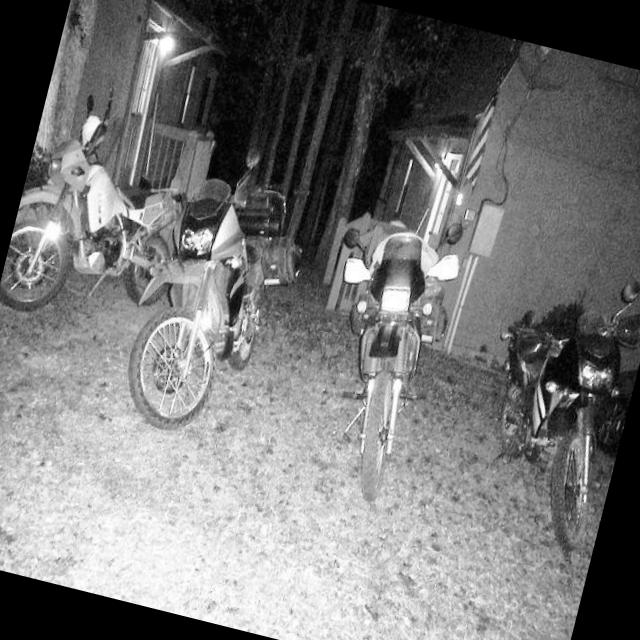Motorcycle: (0, 78, 209, 372), (105, 150, 292, 469), (306, 181, 491, 486), (462, 229, 640, 526)
